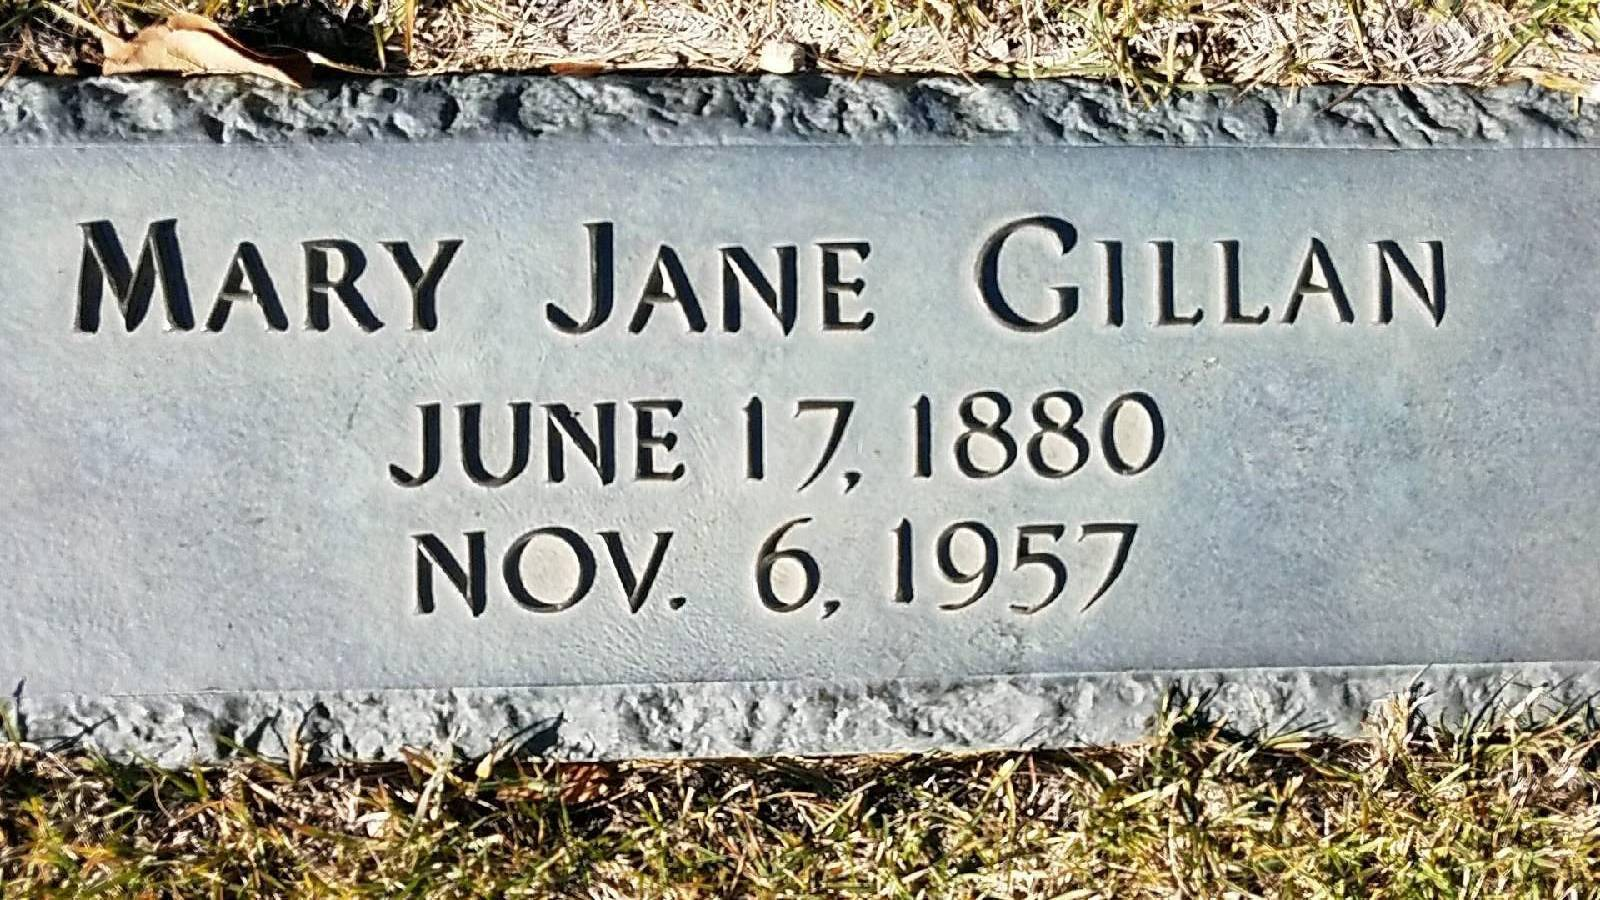flat: (0, 151, 1600, 662)
